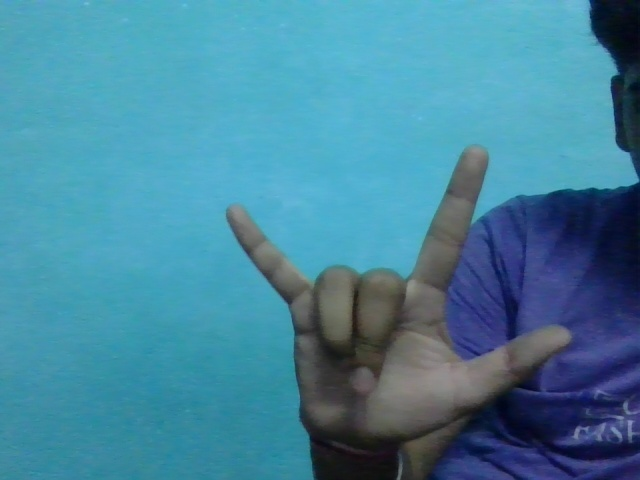iloveyou: (216, 143, 567, 447)
